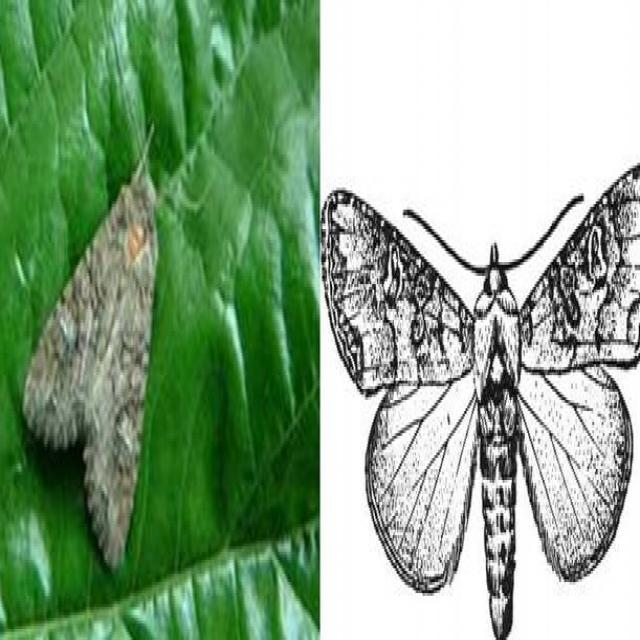armyworm: (320, 147, 639, 640), (13, 74, 181, 602)
